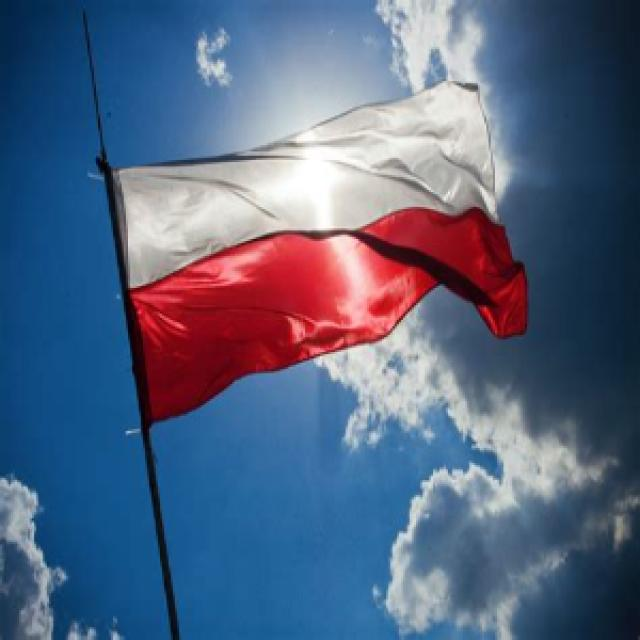poland: (83, 106, 578, 444)
